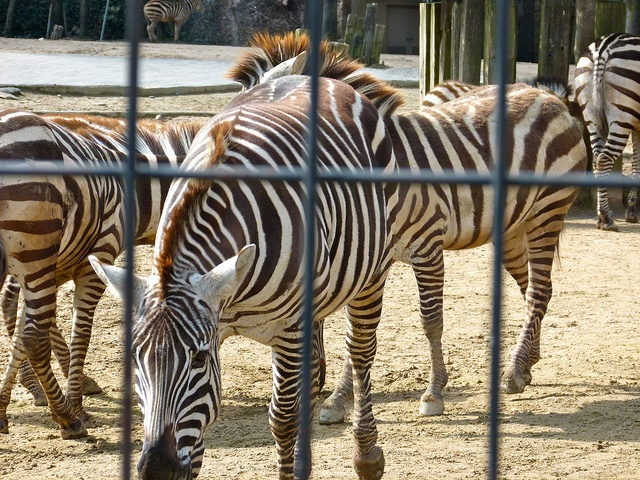zebra: (228, 32, 588, 428), (86, 76, 402, 478), (0, 104, 204, 437), (572, 29, 640, 233)
